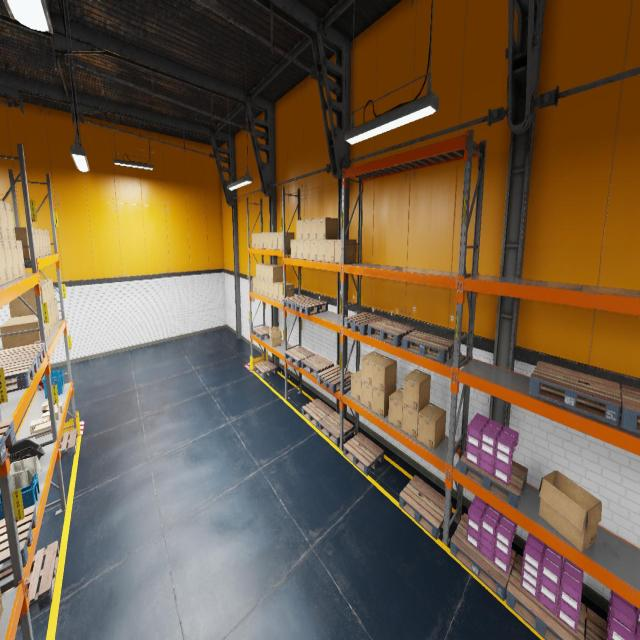box: (538, 471, 602, 552), (417, 402, 446, 450), (0, 317, 40, 349), (9, 284, 46, 317), (403, 368, 430, 412), (5, 315, 48, 341), (402, 402, 429, 440), (372, 355, 397, 393), (372, 385, 396, 418), (362, 351, 384, 386), (388, 388, 404, 430), (14, 227, 31, 259), (334, 240, 356, 263), (3, 241, 15, 282), (4, 202, 16, 240), (318, 218, 338, 240), (0, 200, 10, 240), (40, 278, 55, 304), (10, 241, 20, 279), (30, 416, 50, 434), (0, 241, 8, 285), (351, 369, 361, 403), (16, 240, 25, 276), (278, 282, 294, 302), (361, 381, 372, 410), (40, 280, 52, 306), (34, 421, 52, 438), (42, 404, 60, 421), (278, 232, 294, 250), (268, 326, 282, 346), (40, 282, 50, 309), (268, 265, 283, 283), (264, 264, 279, 282), (274, 282, 288, 300), (42, 398, 58, 413), (34, 228, 41, 257), (260, 264, 272, 280), (256, 263, 268, 279), (326, 239, 334, 262), (46, 402, 63, 412), (38, 229, 44, 256), (318, 240, 325, 261), (310, 218, 317, 239), (46, 230, 52, 254), (310, 240, 317, 260), (303, 219, 310, 239), (296, 219, 303, 239), (303, 240, 310, 260), (41, 230, 46, 256), (50, 304, 55, 330), (44, 230, 49, 254), (297, 239, 303, 259), (33, 228, 37, 257), (48, 307, 52, 334), (272, 232, 278, 250), (290, 240, 296, 258), (0, 588, 3, 620), (53, 302, 57, 326), (55, 299, 59, 323), (268, 232, 273, 249), (264, 281, 269, 297), (263, 232, 268, 248), (269, 282, 273, 299), (46, 323, 50, 339), (256, 278, 260, 294), (0, 220, 3, 240), (260, 280, 264, 295), (260, 233, 264, 248), (256, 233, 260, 248), (253, 277, 256, 292), (252, 233, 255, 248)
pallets: (506, 554, 586, 640), (529, 361, 621, 425), (450, 513, 516, 600), (1, 540, 59, 624), (459, 451, 528, 508), (399, 476, 452, 540), (0, 505, 37, 580), (343, 432, 384, 475), (402, 330, 454, 363), (0, 356, 38, 392), (368, 318, 415, 346), (318, 411, 354, 446), (0, 343, 46, 368), (317, 364, 353, 393), (620, 384, 640, 434), (344, 312, 386, 335), (302, 398, 334, 428), (301, 354, 334, 378), (55, 428, 78, 462), (0, 418, 16, 466), (585, 608, 606, 639), (284, 346, 314, 367), (294, 299, 328, 315), (282, 295, 313, 310), (254, 360, 277, 378), (252, 325, 270, 340)
